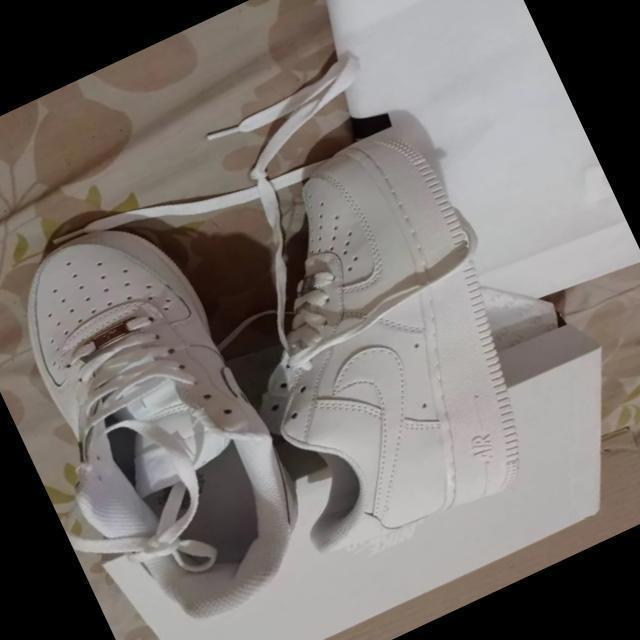nike fake air force: (171, 111, 583, 574), (0, 193, 336, 640)
